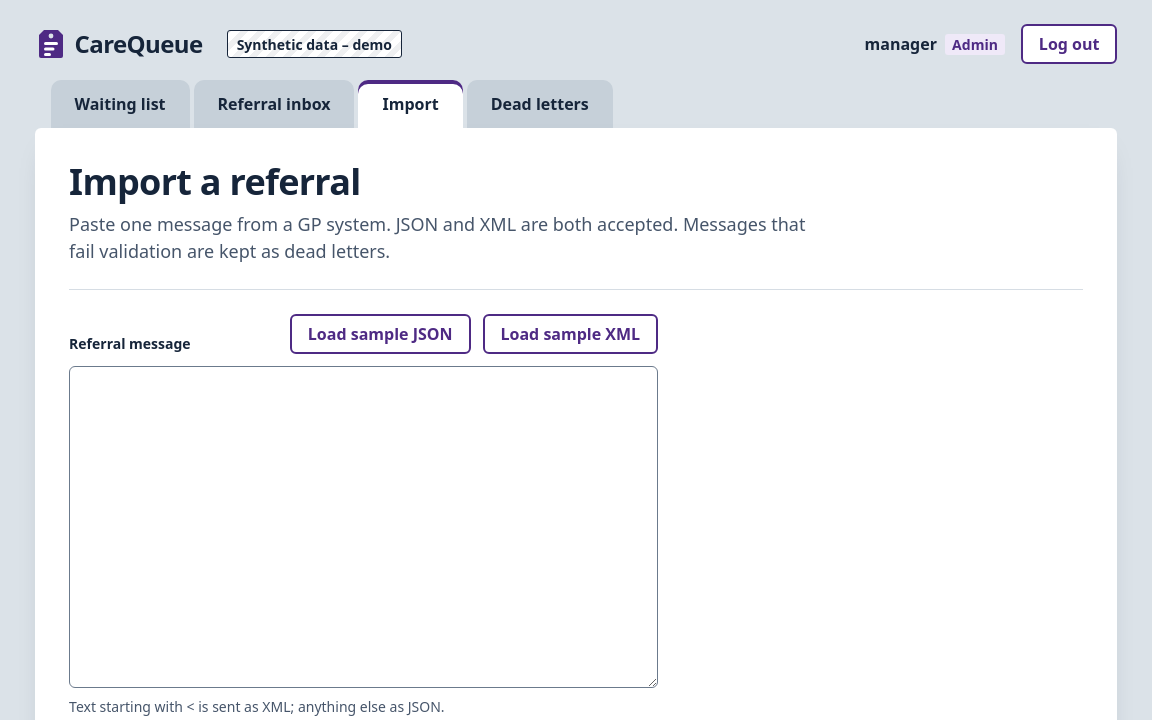
Scenario: import page › shows a 422 without field errors (malformed JSON) and still gives the dead letter id
Click the text box labelled "Referral message".
click(364, 527)  # box [69,366,658,688]
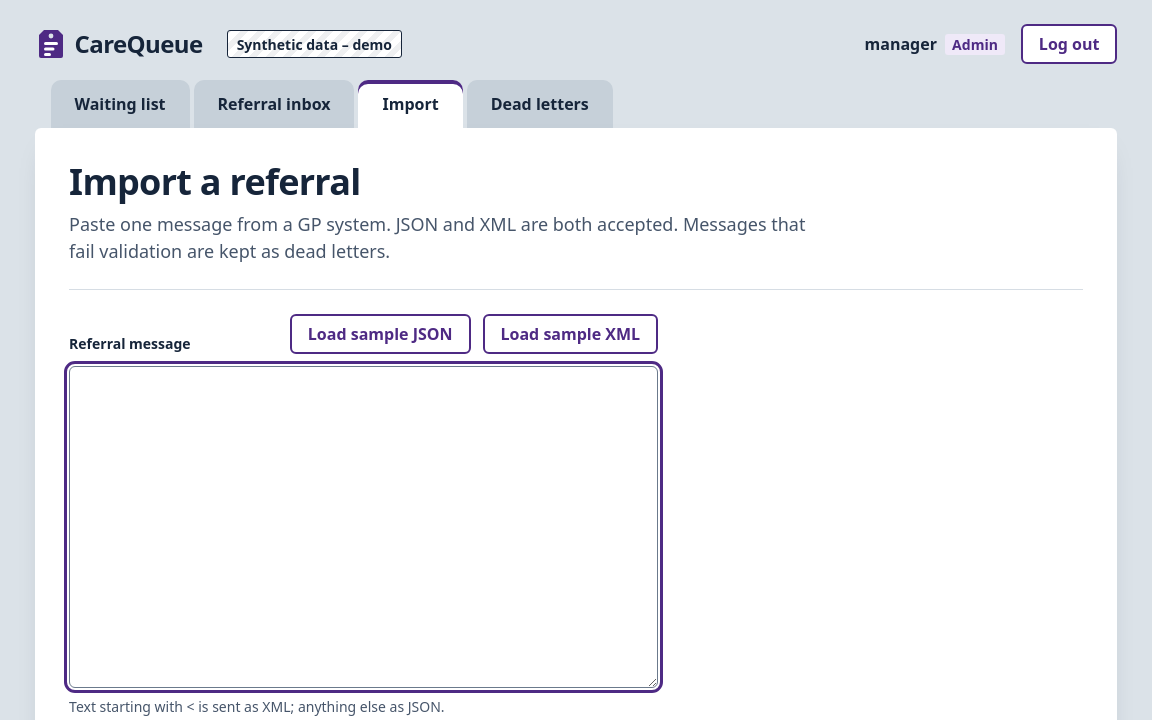
Type keys "{\"externalRef\": "
(page scrolled)
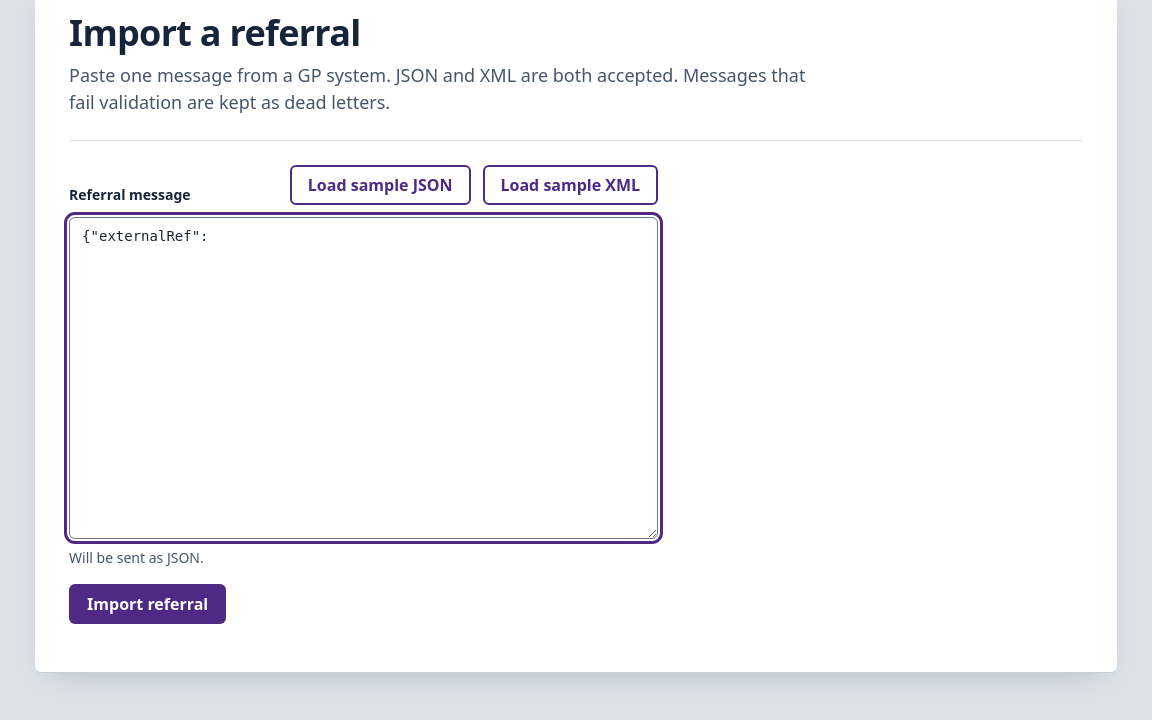
Click the button "Import referral".
click(148, 604)  # box [69,584,226,624]
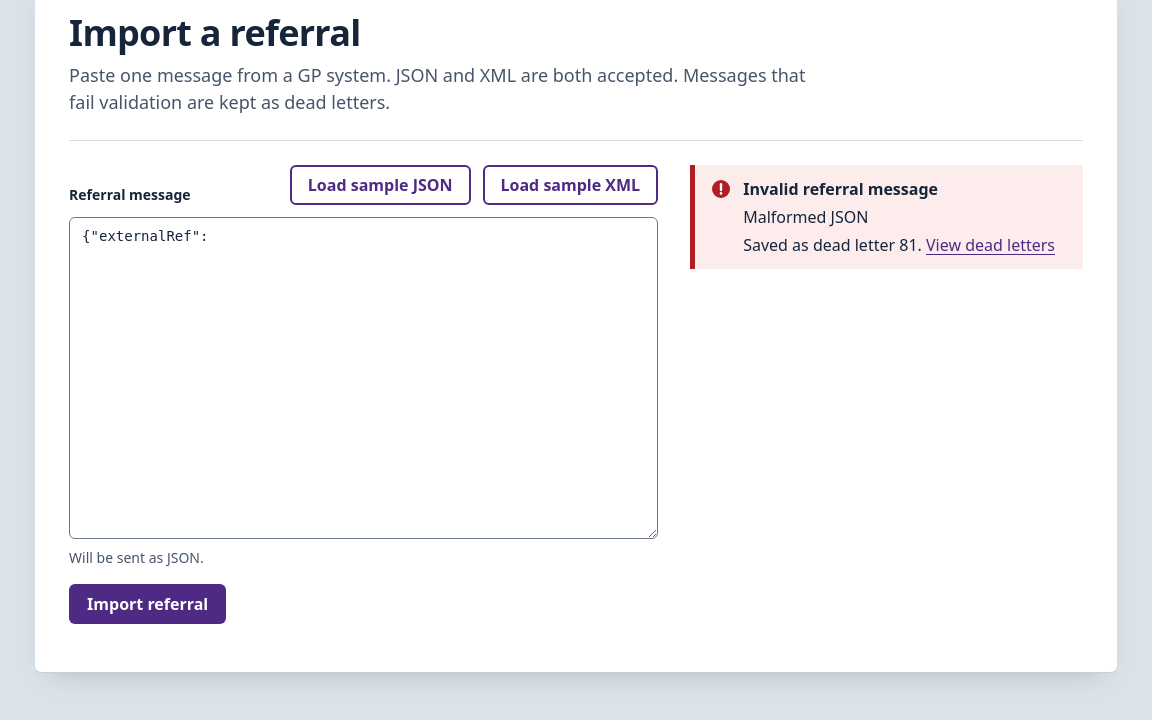
Expected: the text "Invalid referral message" is shown, [743,178,938,200]
Expected: the text "Saved as dead letter 81. View dead letters" is shown, [743,233,1055,257]
